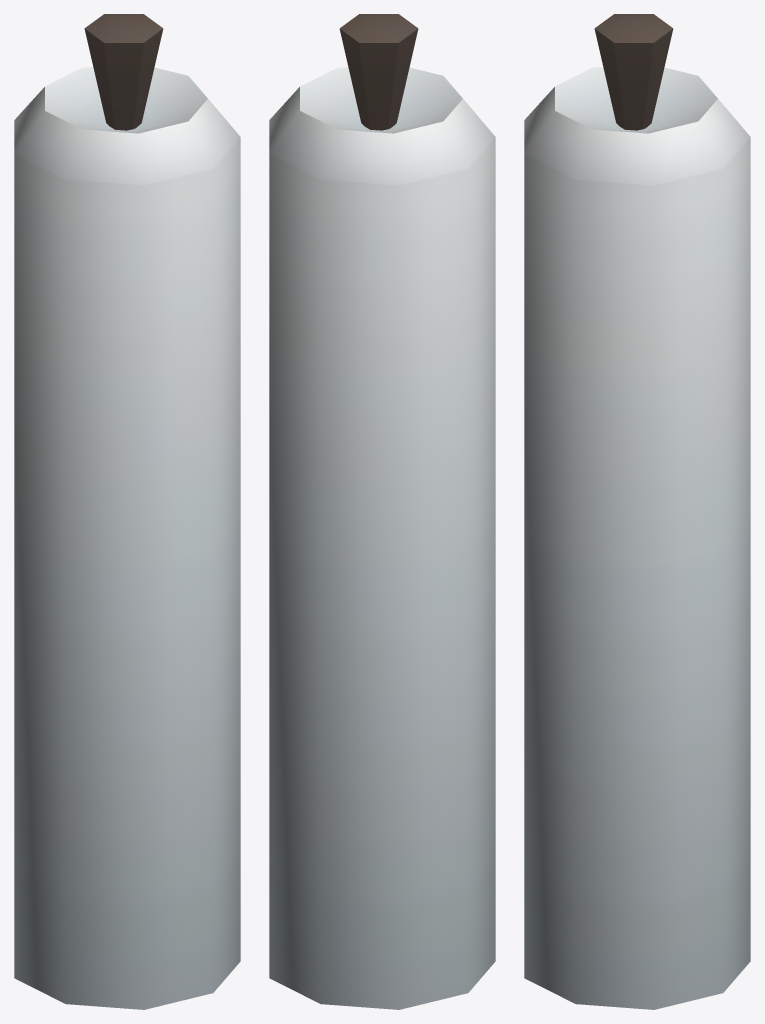
Rendered from candle.glb.
3 renders of one model, left to right at view 1: azimuth 30°, elevation 25°; view 2: azimuth 150°, elevation 25°; view 3: azimuth 270°, elevation 25°, orthographic.
Visible parts, largest first — view 1: candle_thin; view 2: candle_thin; view 3: candle_thin.
Boxes of the visible parts, <box> form: candle_thin: <box>14,14,240,1009</box>; candle_thin: <box>269,14,495,1009</box>; candle_thin: <box>524,14,750,1009</box>.
Size of the model in its own units: 0.1739 by 0.7857 by 0.1712.
Materials: 1 (1 with a texture image).
